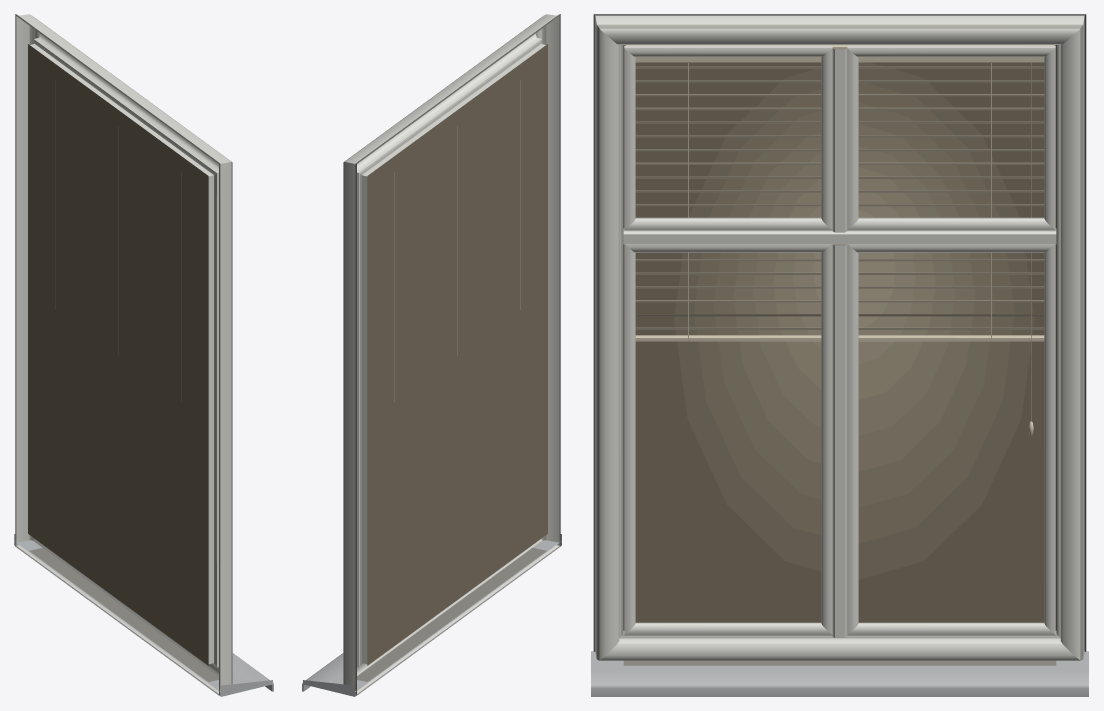
The model's file is window_188_lit.glb.
3 renders of one model, left to right at view 1: azimuth 30°, elevation 25°; view 2: azimuth 150°, elevation 25°; view 3: azimuth 270°, elevation 25°, orthographic. The views are drawn at different scales.
Parts seen in each view (by area): view 1: fenster; view 2: fenster; view 3: fenster.
Boxes of the visible parts, x1,y1,x2,y2 form: fenster: (14,14,273,696); fenster: (302,14,561,696); fenster: (591,14,1088,696).
Size of the model in its own units: 0.205 by 1.99 by 1.38.
